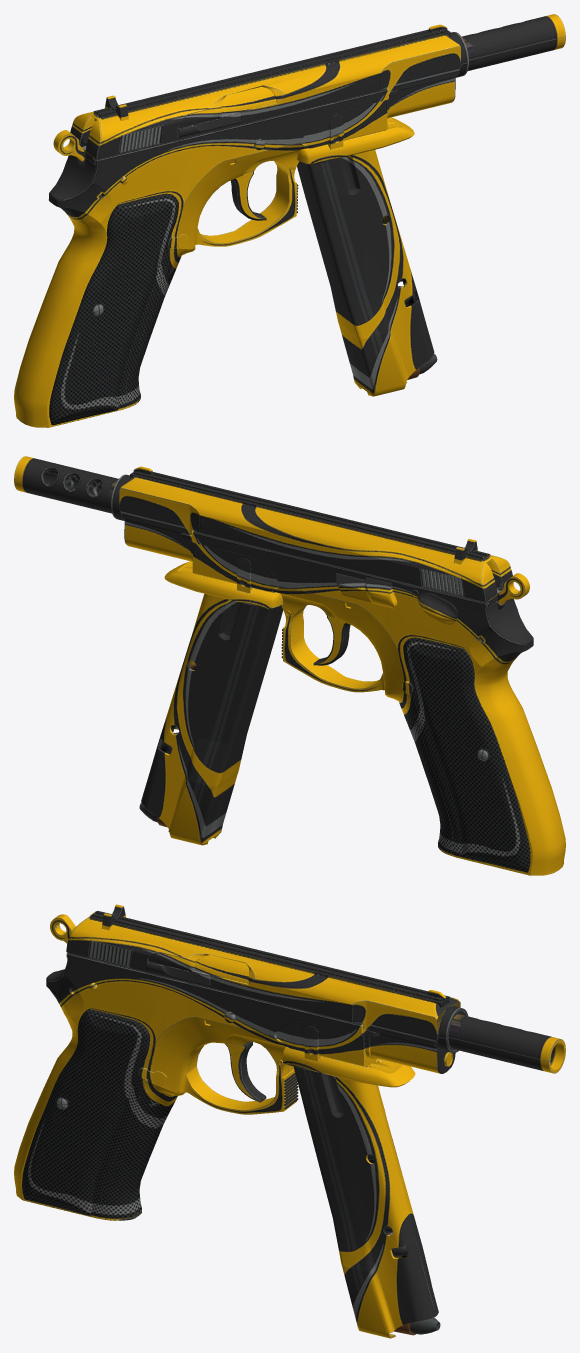
The model's file is w_machinepistol_chastizer.glb.
The picture shows the model from 3 angles, top to bottom: view 1: azimuth 30°, elevation 25°; view 2: azimuth 150°, elevation 25°; view 3: azimuth 330°, elevation 25°; orthographic projection.
Parts seen in each view (by area): view 1: Gun_Root; view 2: Gun_Root; view 3: Gun_Root.
Boxes of the visible parts, x1,y1,x2,y2 form: Gun_Root: [14, 14, 565, 427]; Gun_Root: [14, 456, 565, 875]; Gun_Root: [14, 904, 565, 1338].
Bounding box in the file's own units: 0.2804 × 0.1769 × 0.0328.
1 material, 1 textured.
